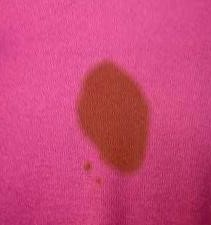stain: (75, 58, 158, 177), (80, 156, 93, 172), (94, 176, 106, 189)
